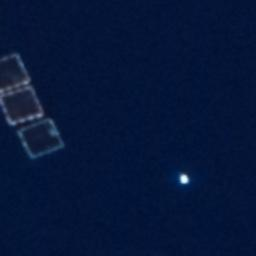square_solid: (13, 113, 71, 162), (1, 85, 47, 128), (1, 48, 35, 97)
